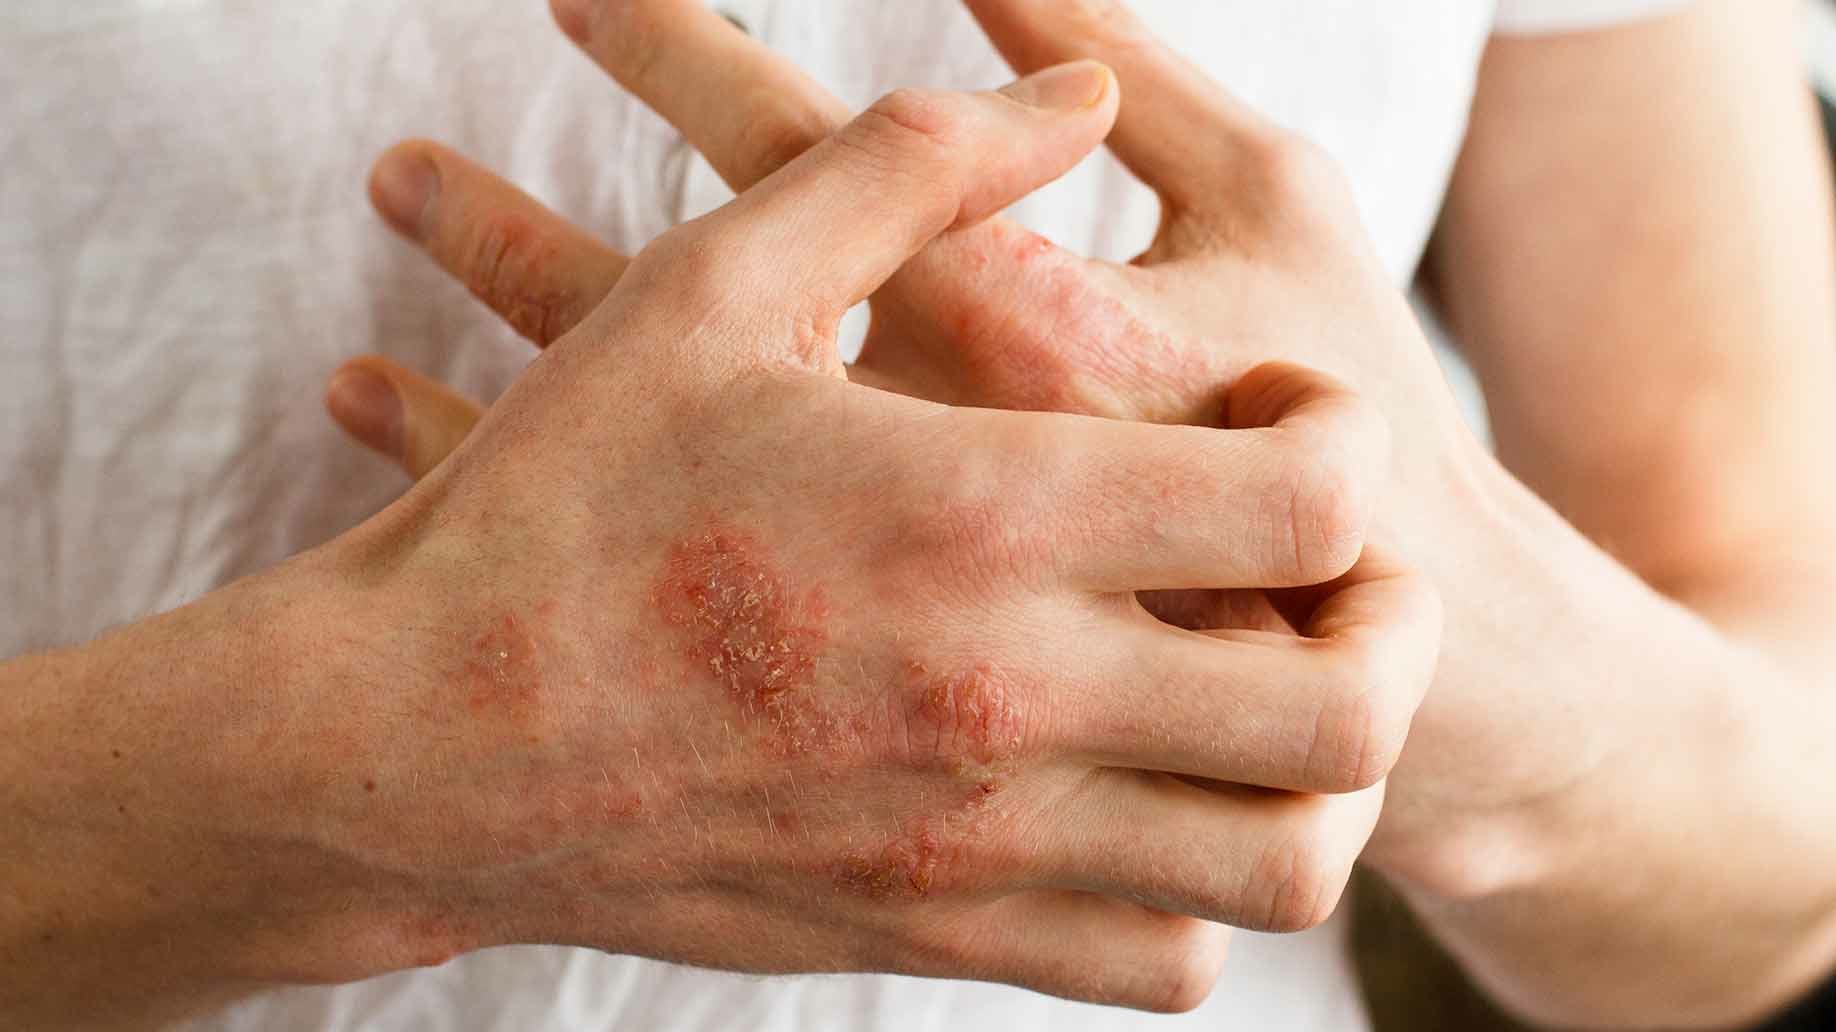Diseased: (517, 313, 1224, 944)
